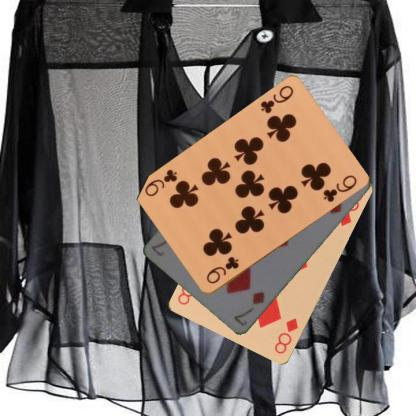7d: (231, 290, 266, 327)
8d: (271, 315, 300, 356)
9c: (257, 82, 295, 115), (204, 254, 240, 286)
